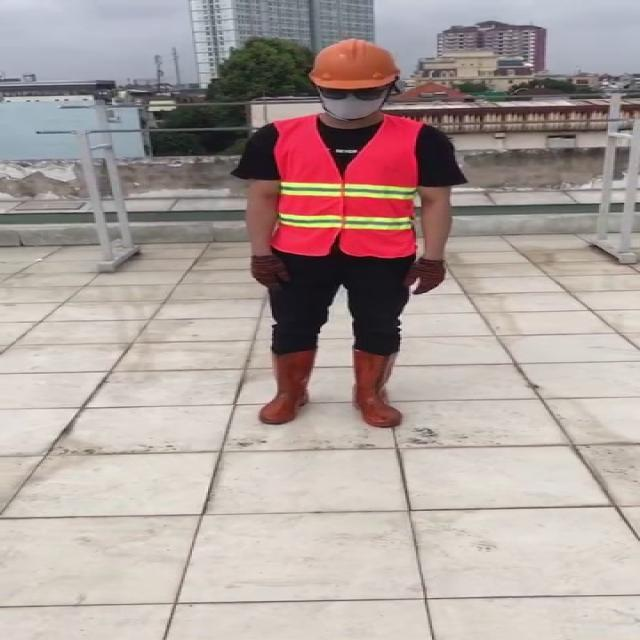boots: (349, 348, 407, 429), (258, 349, 318, 425)
